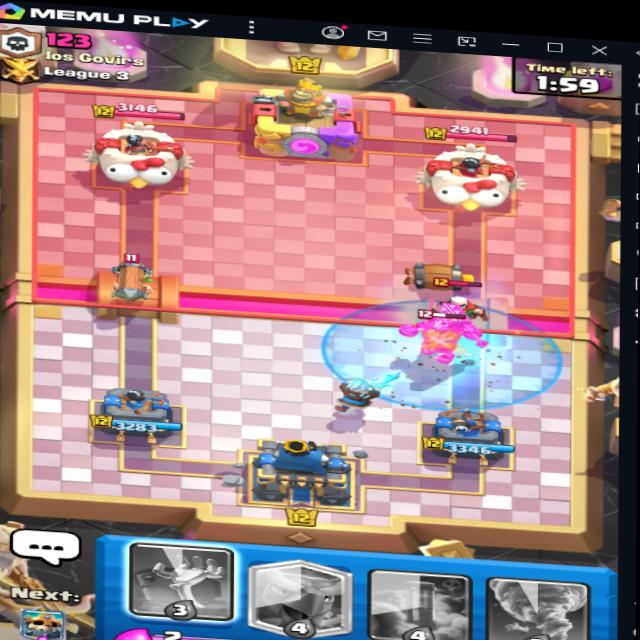Battleram: (108, 252, 173, 306)
Marcher: (431, 286, 491, 328)
Skellykingability: (304, 294, 566, 415)
skellyking: (401, 309, 492, 366)
